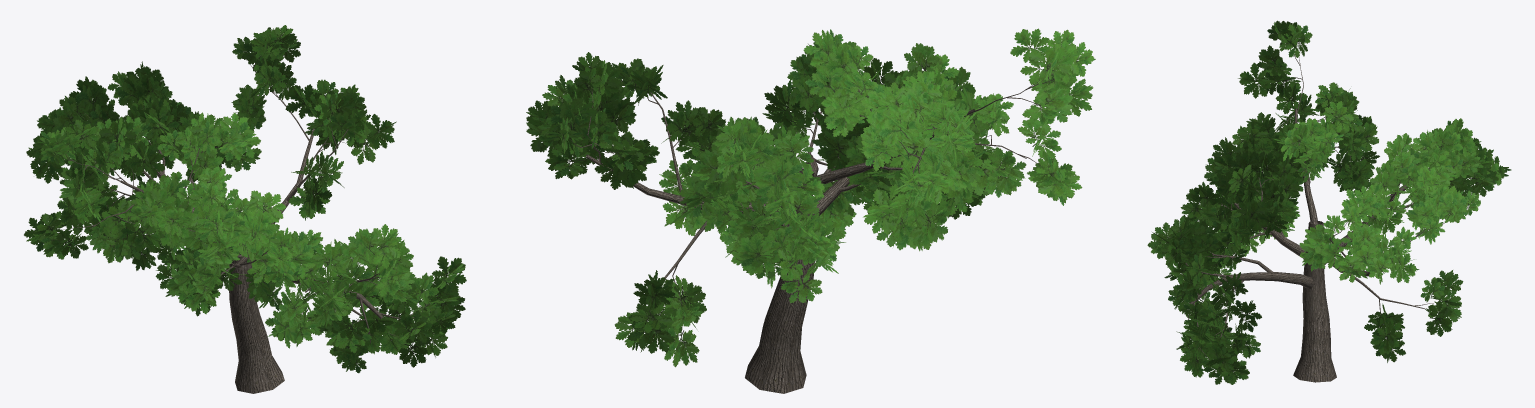
Rendered from nature-green-broad-oak_v3.glb.
The picture shows the model from 3 angles, left to right: view 1: azimuth 30°, elevation 25°; view 2: azimuth 150°, elevation 25°; view 3: azimuth 270°, elevation 25°; orthographic projection. The views are drawn at different scales.
Parts seen in each view (by area): view 1: nature-green-broad-oak; view 2: nature-green-broad-oak; view 3: nature-green-broad-oak.
Part boxes in pixels (x1=…): nature-green-broad-oak: x1=24, y1=25, x2=466, y2=393; nature-green-broad-oak: x1=526, y1=28, x2=1095, y2=393; nature-green-broad-oak: x1=1147, y1=20, x2=1511, y2=384.
Bounding box in the file's own units: 14.66 × 11.24 × 14.08.
Materials: 2 (2 with a texture image).
